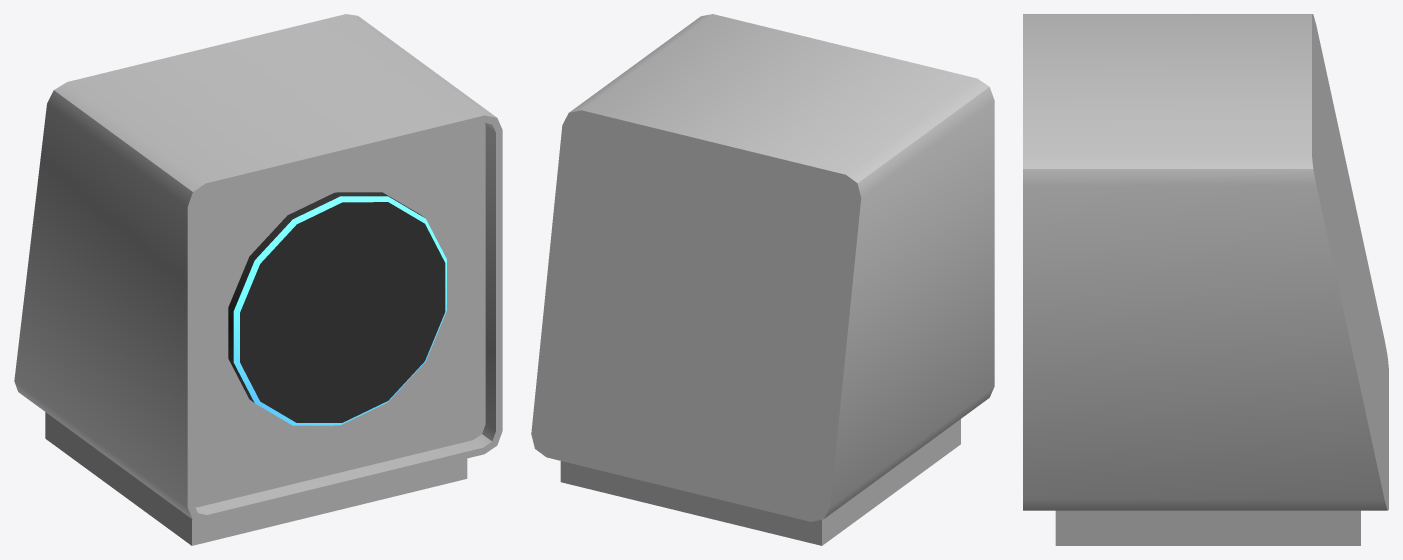
File: speaker_1.glb
3 renders of one model, left to right at view 1: azimuth 30°, elevation 25°; view 2: azimuth 150°, elevation 25°; view 3: azimuth 270°, elevation 25°, orthographic. The views are drawn at different scales.
Parts seen in each view (by area): view 1: Speaker 3; view 2: Speaker 3; view 3: Speaker 3.
Boxes of the visible parts, x1,y1,x2,y2 form: Speaker 3: (14, 14, 502, 545); Speaker 3: (531, 14, 994, 545); Speaker 3: (1023, 14, 1388, 545).
Size of the model in its own units: 0.11 by 0.1249 by 0.1061.
Materials: 2 (1 with a texture image).
